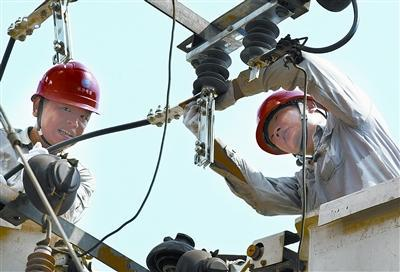helmet: (24, 55, 112, 150), (253, 85, 318, 159)
